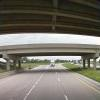Bridge: (2, 39, 94, 65)
